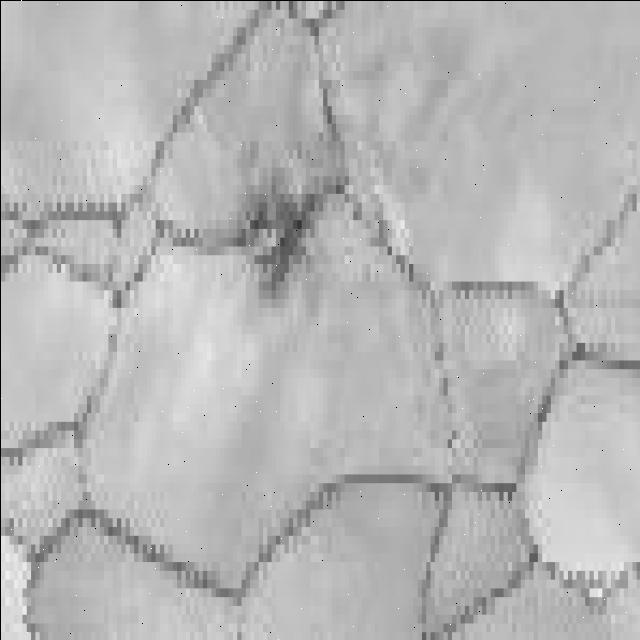good_void: (232, 135, 345, 307)
